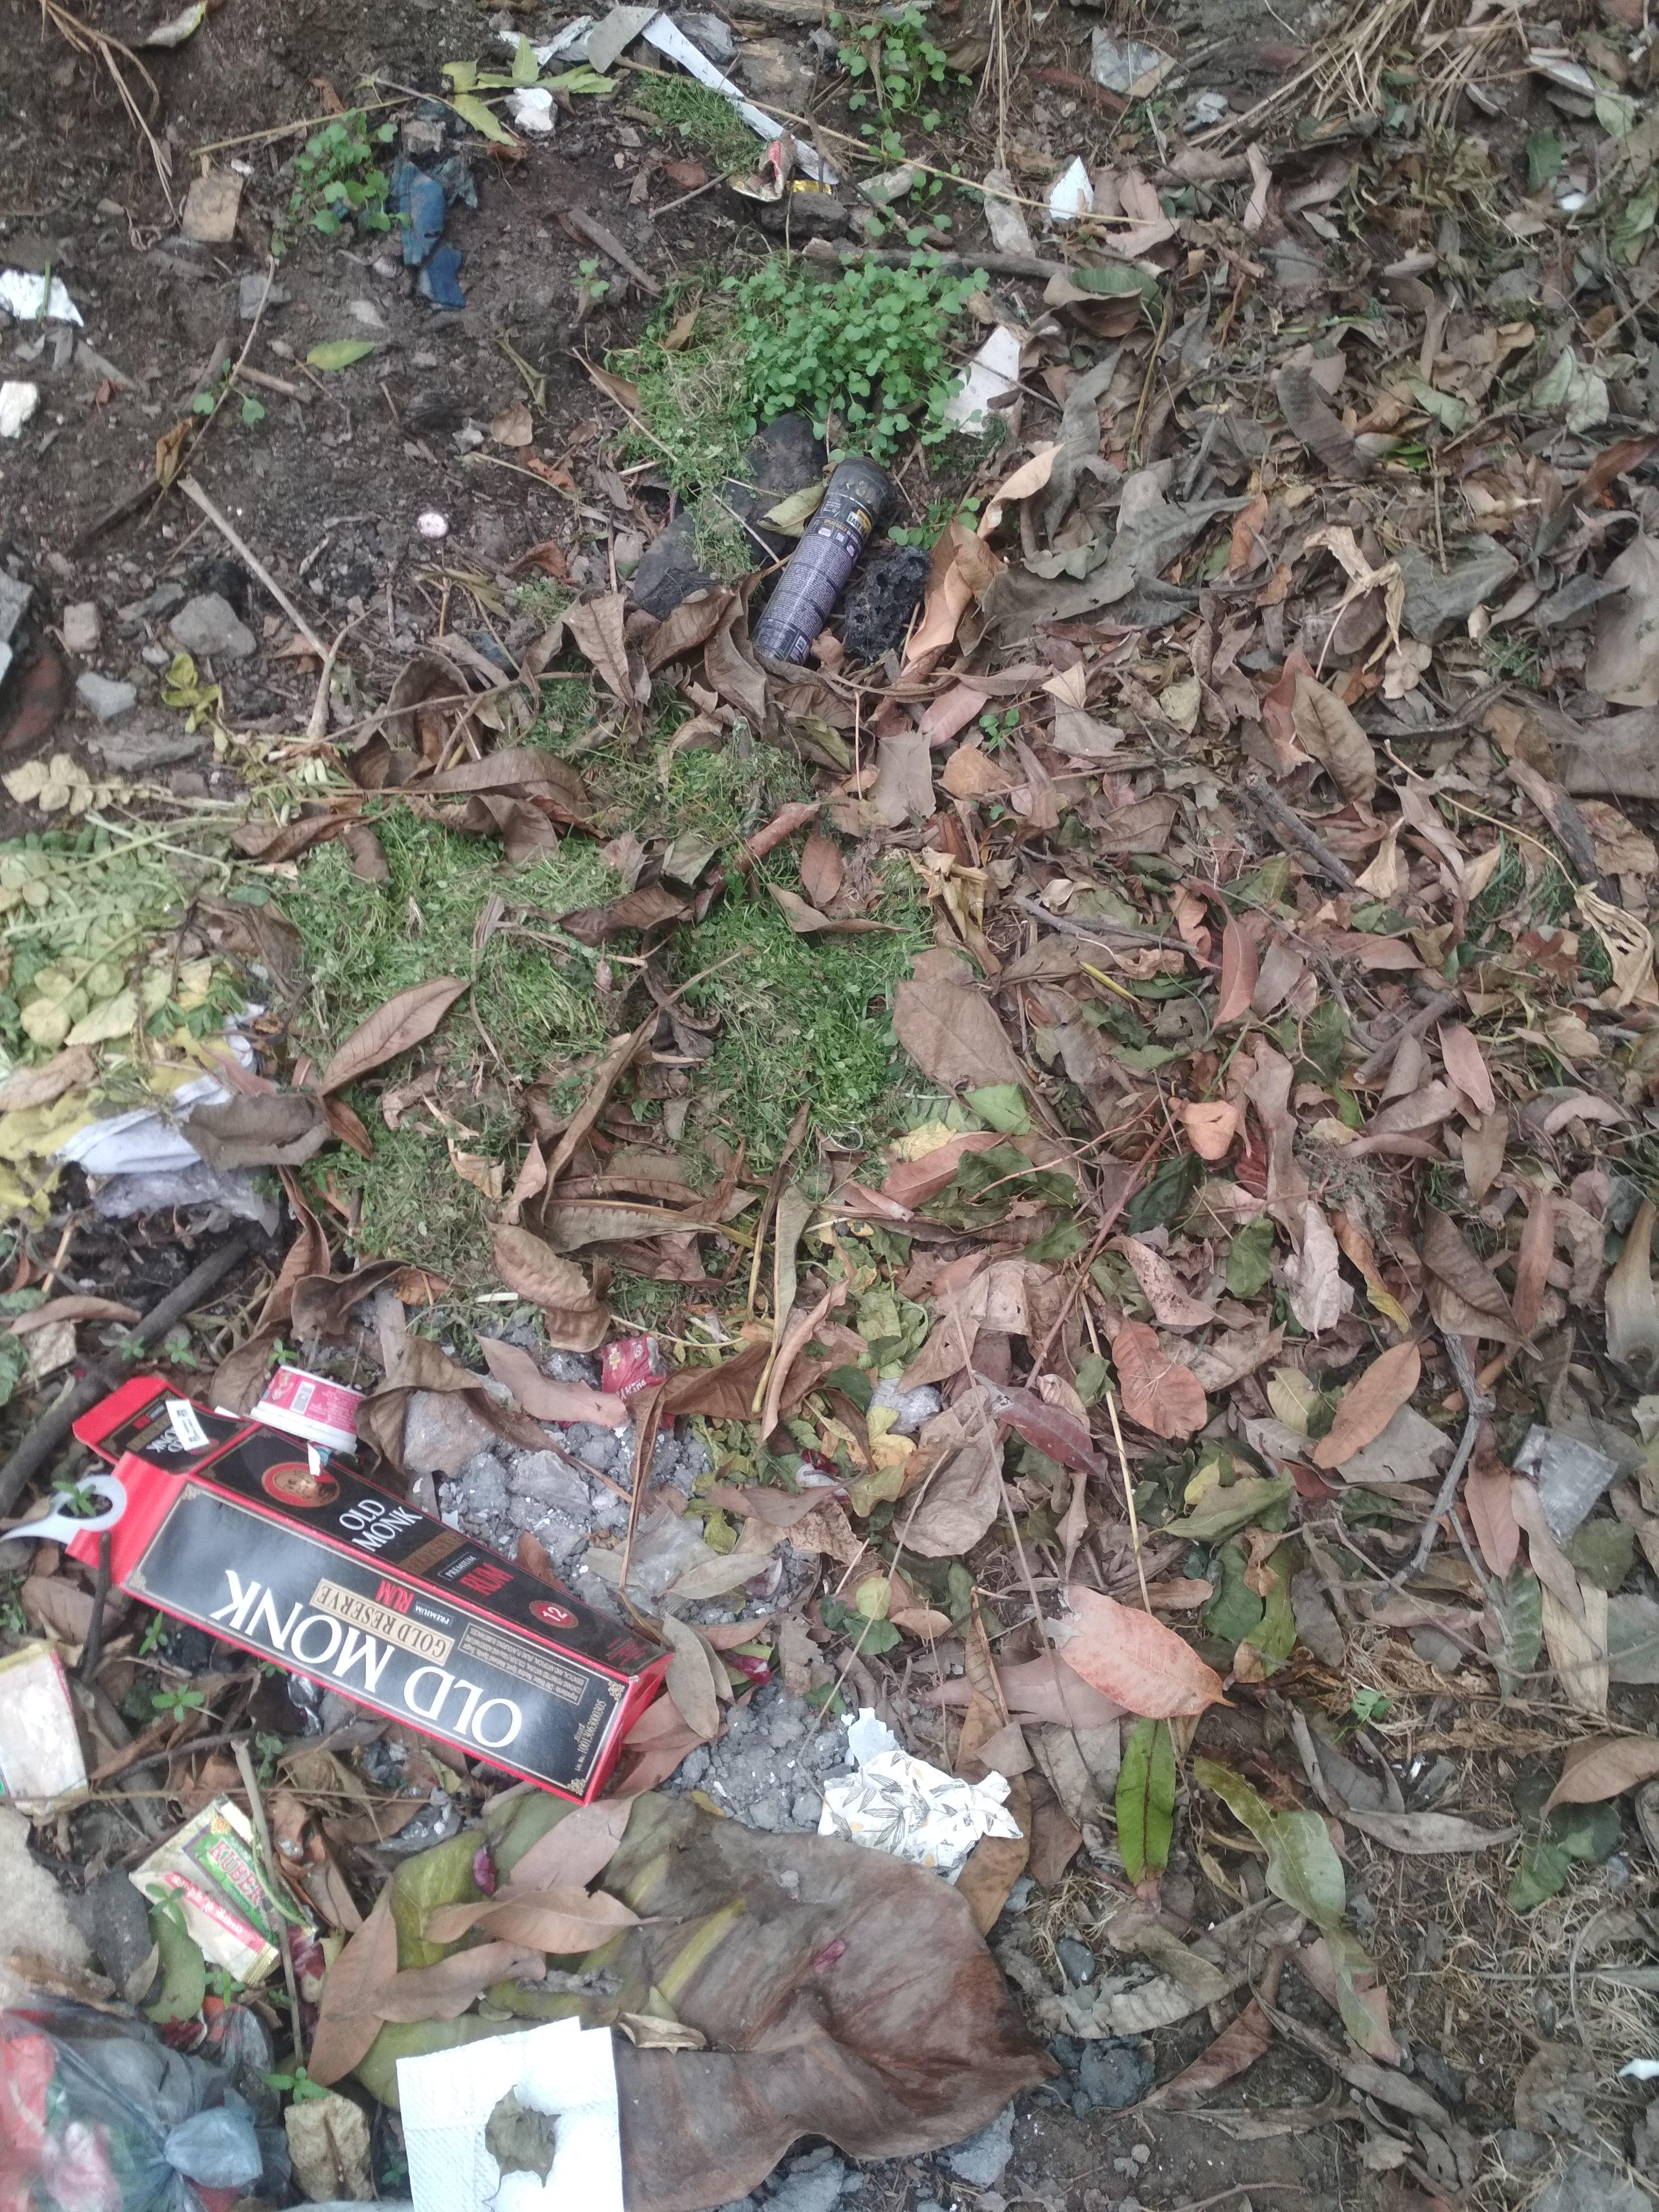organic: (0, 1085, 941, 2212)
